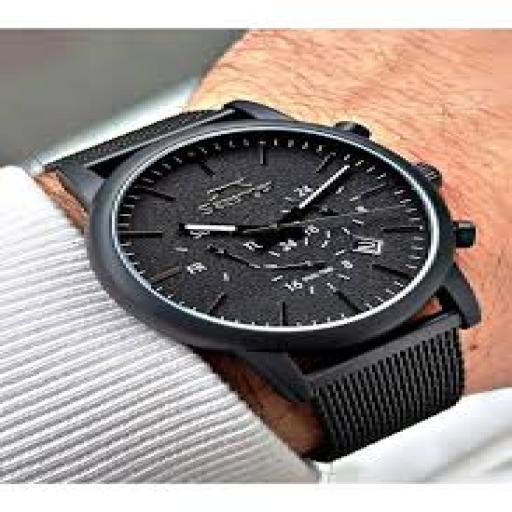KolSaati: (6, 74, 512, 454)
